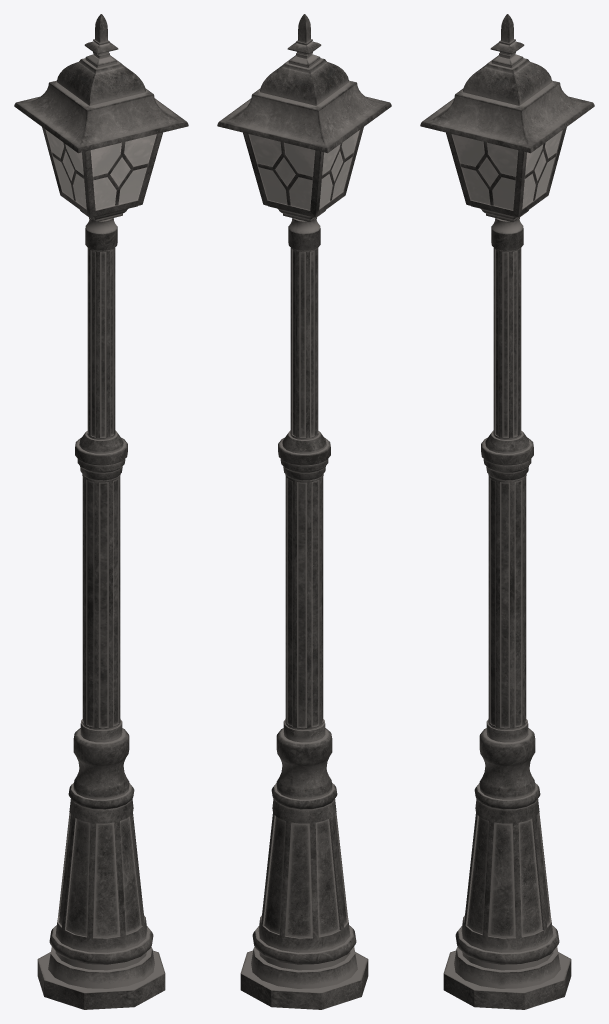
File: Street_Lamp_1.obj
The picture shows the model from 3 angles, left to right: view 1: azimuth 30°, elevation 25°; view 2: azimuth 150°, elevation 25°; view 3: azimuth 330°, elevation 25°; orthographic projection.
Visible parts, largest first — view 1: Lamp_Цилиндр.002, glass_Куб.005; view 2: Lamp_Цилиндр.002, glass_Куб.005; view 3: Lamp_Цилиндр.002, glass_Куб.005.
Part boxes in pixels (bbox=[...]): Lamp_Цилиндр.002: bbox=[14, 14, 188, 1009]; glass_Куб.005: bbox=[46, 130, 156, 210]; Lamp_Цилиндр.002: bbox=[217, 14, 391, 1009]; glass_Куб.005: bbox=[249, 130, 359, 210]; Lamp_Цилиндр.002: bbox=[420, 14, 594, 1009]; glass_Куб.005: bbox=[452, 130, 562, 210].
Bounding box in the file's own units: 0.4258 × 3.44 × 0.4258.
3 materials, 3 textured.
